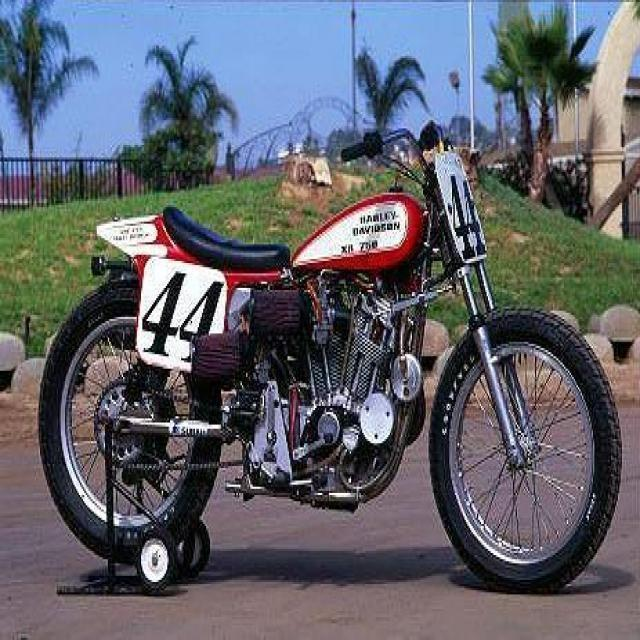Motorcycle: (44, 145, 632, 600)
